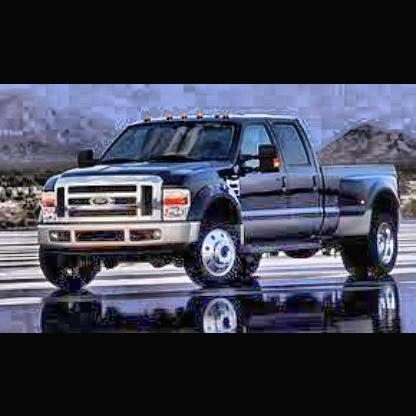Ford F-450 Super Duty Crew Cab 2012: (37, 111, 404, 287)
